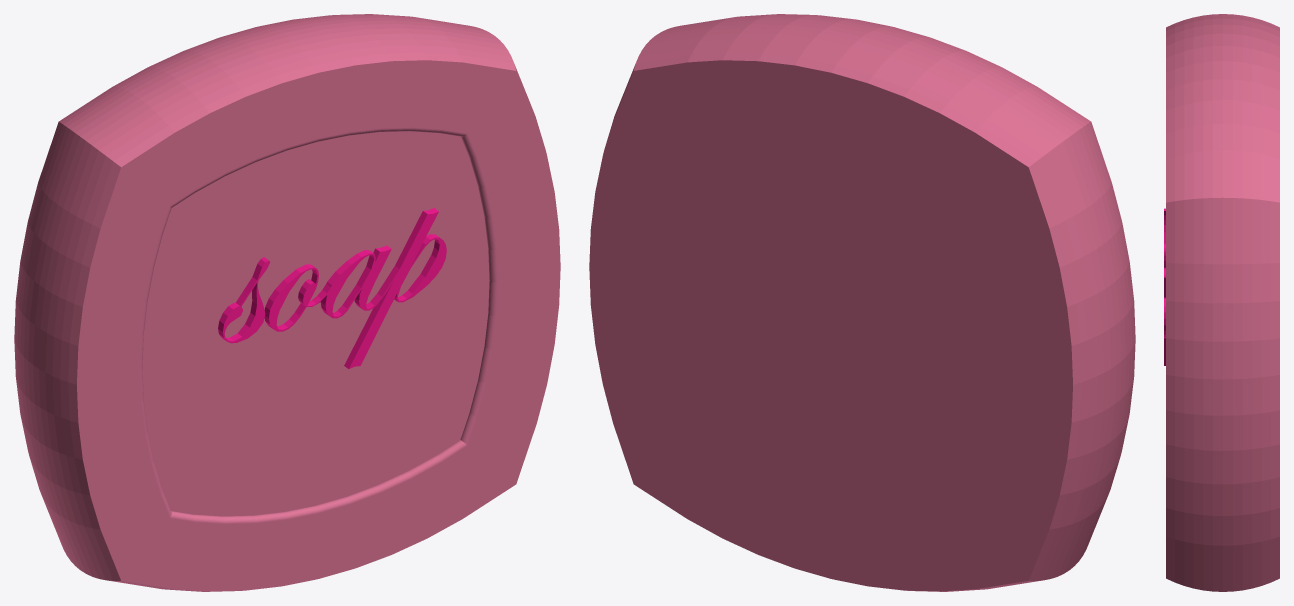
The picture shows the model from 3 angles, left to right: view 1: azimuth 30°, elevation 25°; view 2: azimuth 150°, elevation 25°; view 3: azimuth 270°, elevation 25°; orthographic projection. The views are drawn at different scales.
Parts seen in each view (by area): view 1: soap; view 2: soap; view 3: soap.
Part boxes in pixels (left/top/right/bottom): soap: left=14, top=14, right=560, bottom=591; soap: left=589, top=14, right=1135, bottom=591; soap: left=1164, top=14, right=1279, bottom=591.
Bounding box in the file's own units: 526 × 526 × 114.
